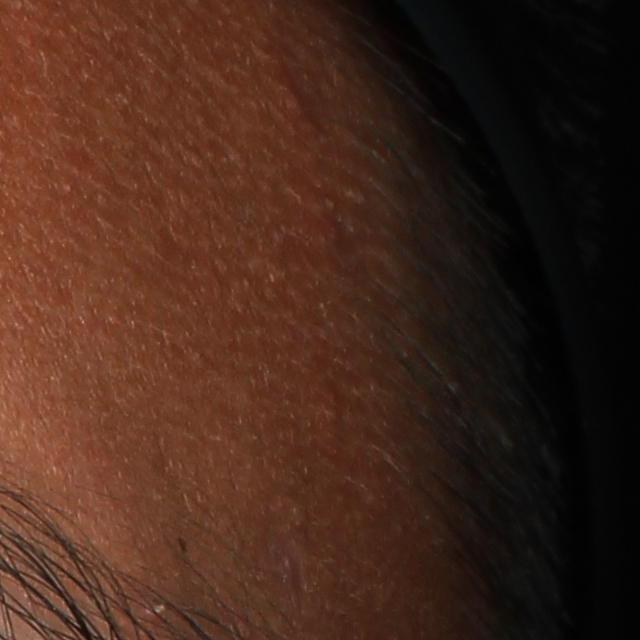papule: (280, 79, 302, 110)
